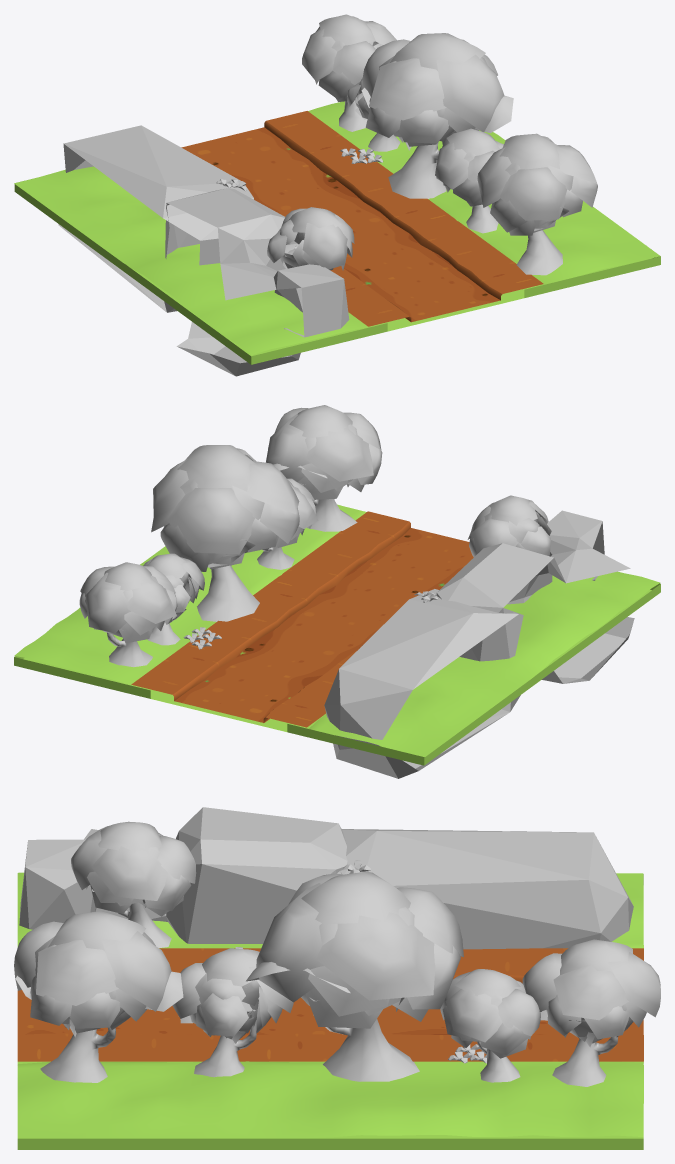
Rendered from Forest5.fbx.
3 views of the same model, one above another, from view 1: azimuth 30°, elevation 25°; view 2: azimuth 150°, elevation 25°; view 3: azimuth 270°, elevation 25° (orthographic). The views are drawn at different scales.
Parts seen in each view (by area): view 1: Plane.027, road_I_2.077, BOSQUELOWPOLY.056, Rock6.002, Rock8.002, BOSQUELOWPOLY.057, road_I_2.074, road_I_2.076, Cube.025, BOSQUELOWPOLY.054, BOSQUELOWPOLY.058, BOSQUELOWPOLY.055 (+3 smaller); view 2: Plane.027, road_I_2.077, BOSQUELOWPOLY.056, Rock8.002, Rock6.002, road_I_2.074, BOSQUELOWPOLY.057, road_I_2.076, BOSQUELOWPOLY.054, Cube.025, BOSQUELOWPOLY.058, BOSQUELOWPOLY.053 (+3 smaller); view 3: road_I_2.076, BOSQUELOWPOLY.056, Rock8.002, Rock6.002, BOSQUELOWPOLY.057, BOSQUELOWPOLY.054, road_I_2.074, BOSQUELOWPOLY.058, Cube.025, BOSQUELOWPOLY.055, BOSQUELOWPOLY.053, Plane.027 (+2 smaller).
Part boxes in pixels (<box>): Plane.027: <box>181,127,500,322</box>; road_I_2.077: <box>14,166,367,355</box>; BOSQUELOWPOLY.056: <box>361,33,513,198</box>; Rock6.002: <box>165,188,349,376</box>; Rock8.002: <box>58,125,253,312</box>; BOSQUELOWPOLY.057: <box>477,133,597,275</box>; road_I_2.074: <box>266,111,543,293</box>; road_I_2.076: <box>308,101,660,285</box>; Cube.025: <box>14,178,660,364</box>; BOSQUELOWPOLY.054: <box>302,14,396,131</box>; BOSQUELOWPOLY.058: <box>267,207,354,270</box>; BOSQUELOWPOLY.055: <box>435,128,503,233</box>; Plane.027: <box>174,528,473,722</box>; road_I_2.077: <box>309,571,660,756</box>; BOSQUELOWPOLY.056: <box>151,445,299,621</box>; Rock8.002: <box>324,589,520,778</box>; Rock6.002: <box>436,510,634,683</box>; road_I_2.074: <box>131,511,408,694</box>; BOSQUELOWPOLY.057: <box>266,405,382,531</box>; road_I_2.076: <box>14,504,366,684</box>; BOSQUELOWPOLY.054: <box>79,562,177,667</box>; Cube.025: <box>14,583,660,765</box>; BOSQUELOWPOLY.058: <box>467,495,551,557</box>; BOSQUELOWPOLY.053: <box>143,553,204,645</box>; road_I_2.076: <box>17,1061,643,1138</box>; BOSQUELOWPOLY.056: <box>246,872,463,1081</box>; Rock8.002: <box>337,829,633,949</box>; Rock6.002: <box>19,807,347,943</box>; BOSQUELOWPOLY.057: <box>14,911,183,1082</box>; BOSQUELOWPOLY.054: <box>522,939,660,1086</box>; road_I_2.074: <box>17,1033,643,1061</box>; BOSQUELOWPOLY.058: <box>71,821,196,947</box>; Cube.025: <box>17,874,643,1149</box>; BOSQUELOWPOLY.055: <box>172,948,293,1077</box>; BOSQUELOWPOLY.053: <box>440,969,540,1082</box>; Plane.027: <box>17,990,643,1034</box>.
Size of the model in its own units: 10138 by 4735 by 10334.
